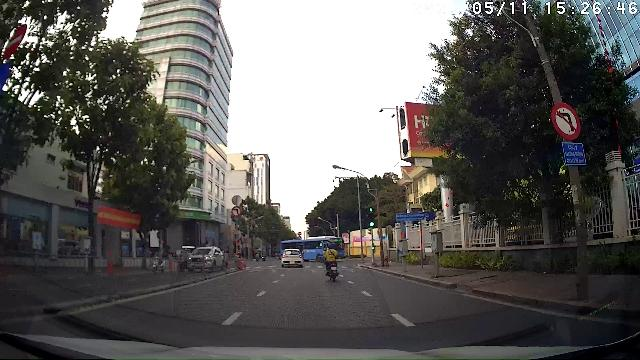123a-cam-re-trai: (551, 103, 581, 140)
